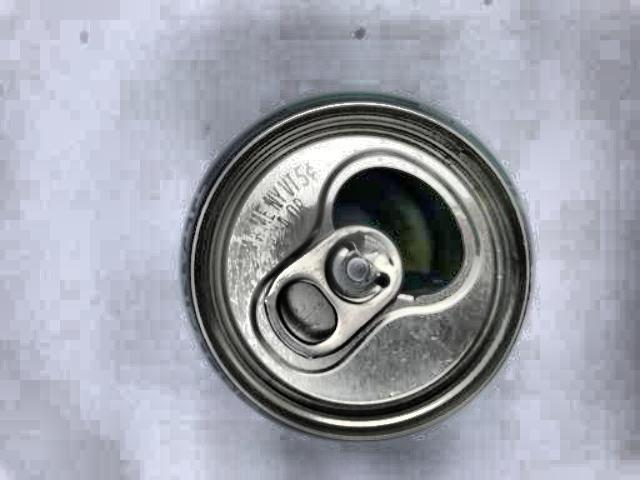Bottles: (149, 82, 543, 451)
